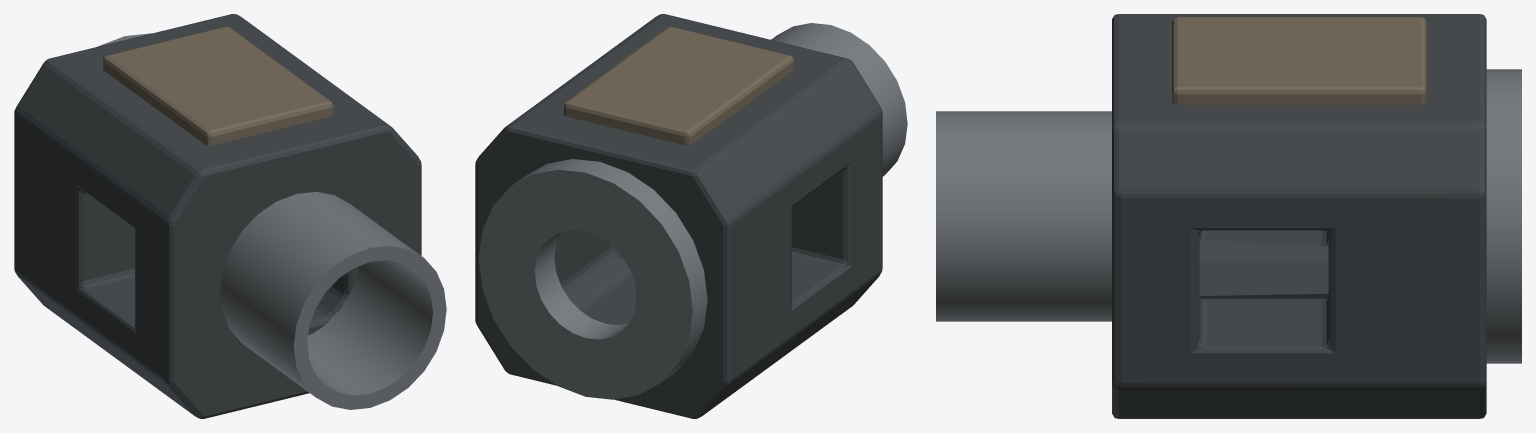
The model's file is compensator.glb.
The picture shows the model from 3 angles, left to right: view 1: azimuth 30°, elevation 25°; view 2: azimuth 150°, elevation 25°; view 3: azimuth 270°, elevation 25°; orthographic projection. The views are drawn at different scales.
Parts seen in each view (by area): view 1: compensator_Ported_shroud, compensator_steel, compensator_Bronze_spine; view 2: compensator_Ported_shroud, compensator_steel, compensator_Bronze_spine; view 3: compensator_Ported_shroud, compensator_steel, compensator_Bronze_spine.
Boxes of the visible parts, x1,y1,x2,y2 form: compensator_Ported_shroud: (14,14,421,418); compensator_steel: (97,33,446,409); compensator_Bronze_spine: (103,26,333,145); compensator_Ported_shroud: (475,14,882,418); compensator_steel: (478,23,907,399); compensator_Bronze_spine: (564,26,794,145); compensator_Ported_shroud: (1112,14,1486,418); compensator_steel: (936,69,1521,363); compensator_Bronze_spine: (1172,17,1426,104).
Bounding box in the file's own units: 0.03 × 0.0295 × 0.05.
